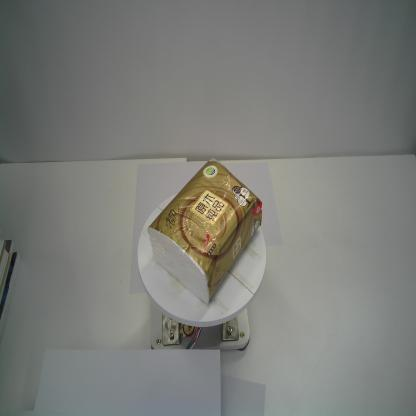Tissue: (147, 157, 263, 306)
